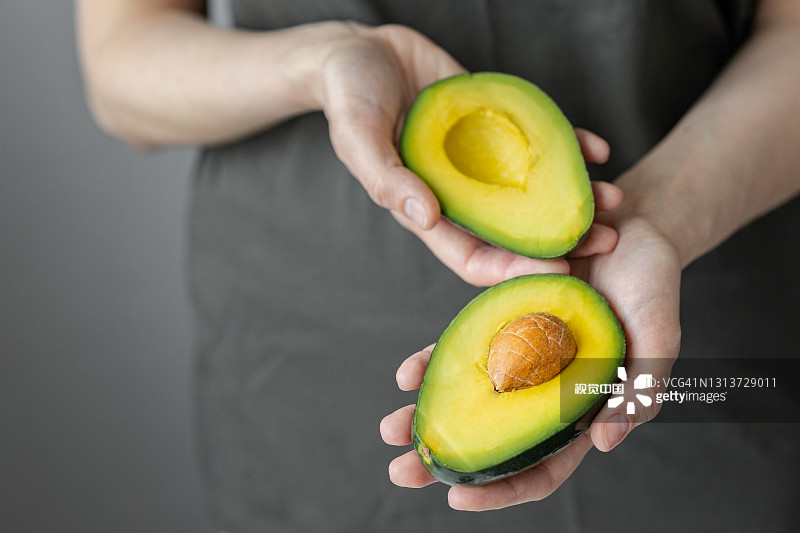no-phone: (338, 206, 694, 527), (311, 10, 630, 301)
